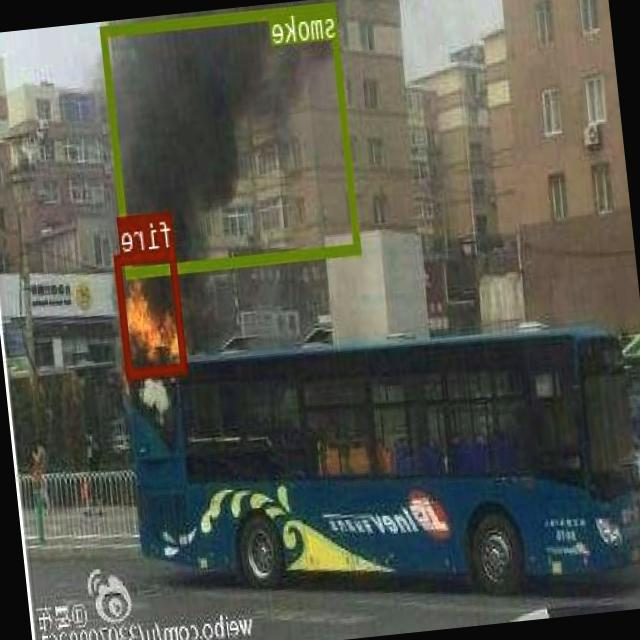fire: (114, 246, 188, 376)
smoke: (101, 0, 362, 277)
